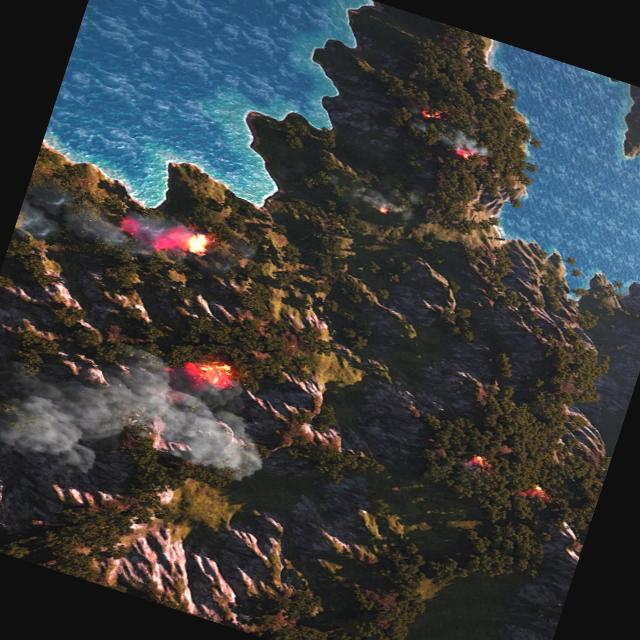fire: (180, 352, 236, 394), (514, 480, 550, 504), (184, 230, 210, 256), (414, 103, 446, 124), (463, 450, 492, 470), (450, 146, 478, 163), (374, 204, 392, 217)
smoke: (0, 303, 286, 556), (12, 174, 233, 298), (334, 168, 428, 230)
